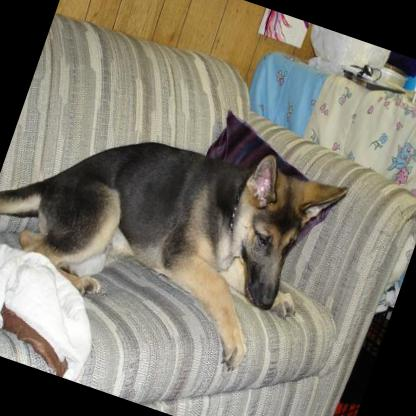German_shepherd: (0, 69, 356, 388)
